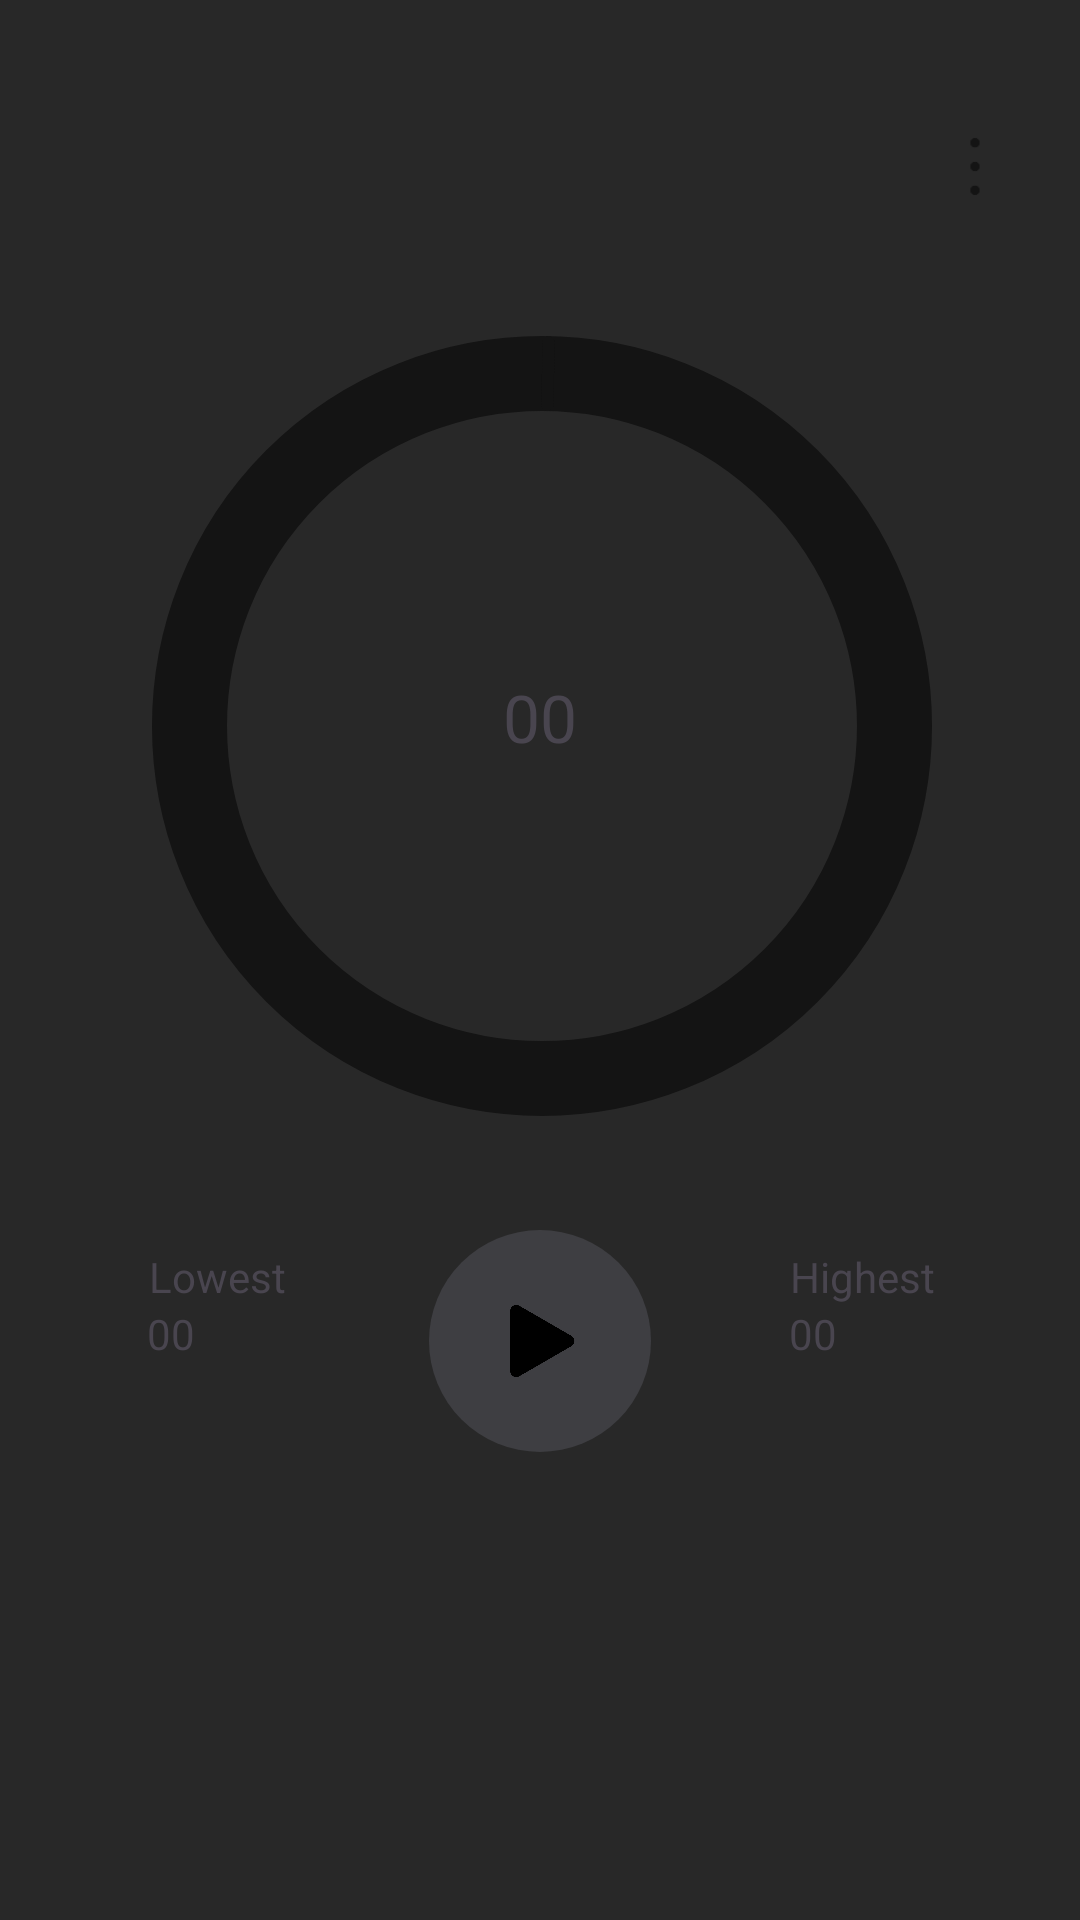

Icons on this 1080*1920 Android screen, each with the point to tap as [x,y]:
play: [542,1341]
